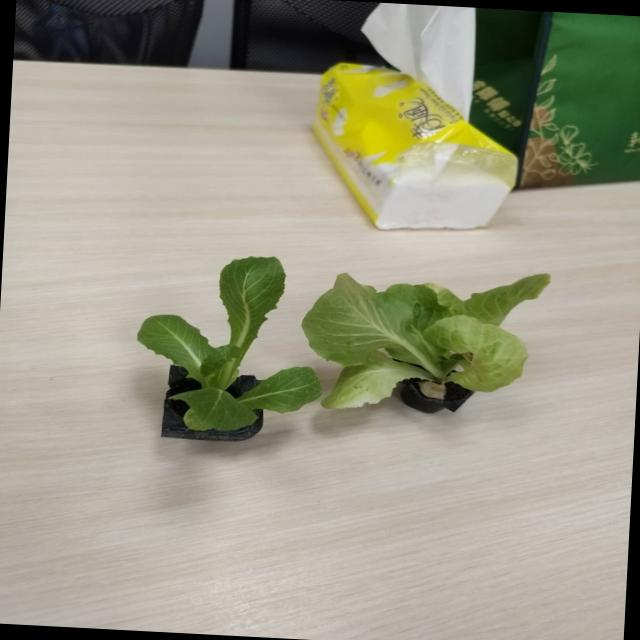Lettuce-Not-Ready-to-Harvest: (303, 274, 549, 408), (137, 257, 321, 430)
